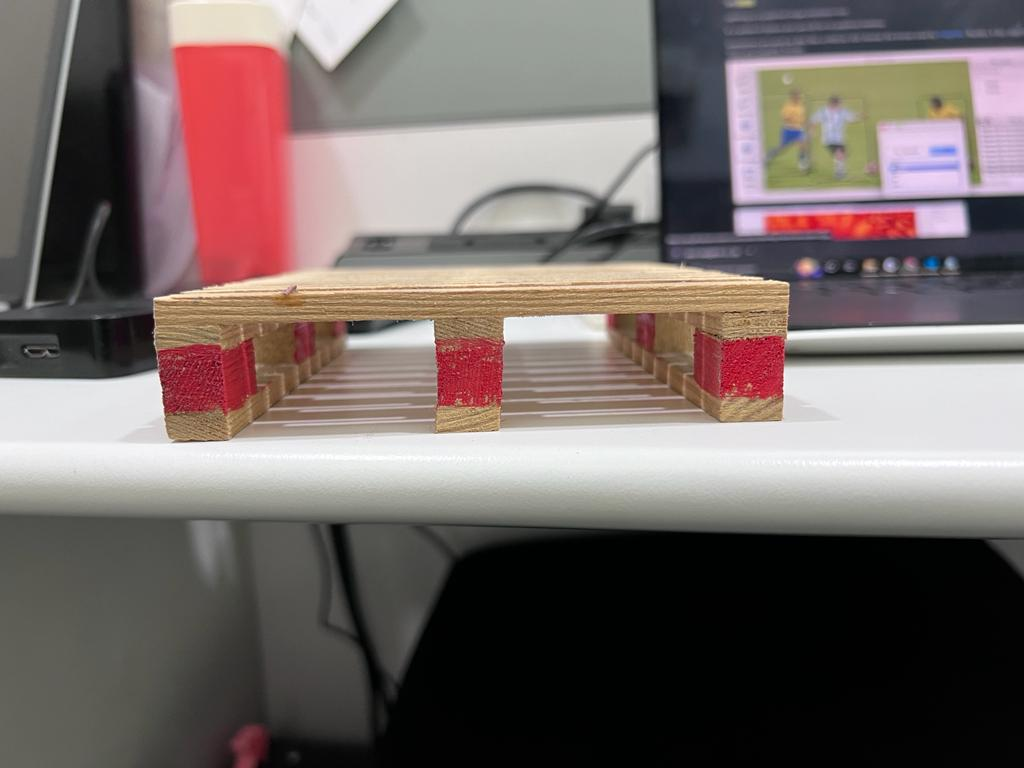pallet: (145, 284, 786, 436)
